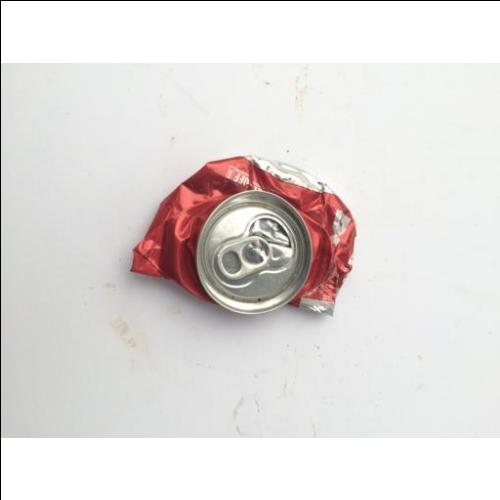metal: (131, 158, 355, 320)
